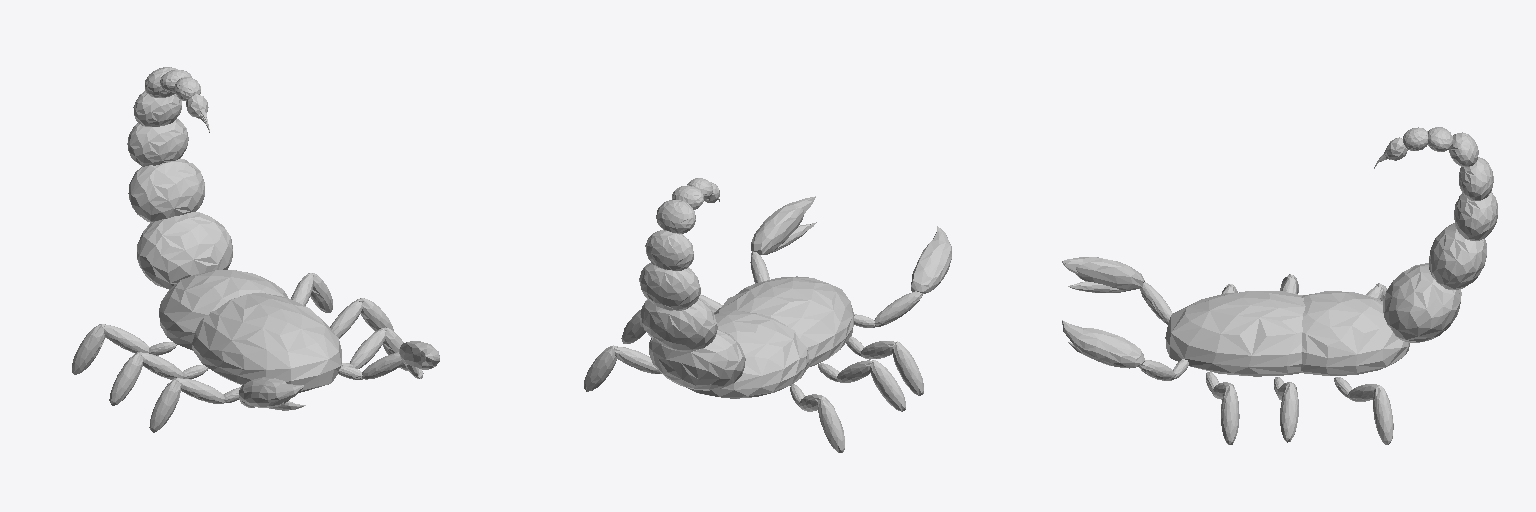
Rendered from scorpion_000037.obj.
3 renders of one model, left to right at view 1: azimuth 30°, elevation 25°; view 2: azimuth 150°, elevation 25°; view 3: azimuth 270°, elevation 25°, orthographic.
Parts seen in each view (by area): view 1: Sphere.010_Sphere.012, Sphere.002_Sphere.004, Sphere.011_Sphere.013, Sphere.003_Sphere.005, Sphere.030_Sphere.000, Sphere.004_Sphere.006, Sphere.012_Sphere.020, Sphere.014_Sphere.023, Sphere.013_Sphere.017, Sphere.000_Sphere.019, Sphere.005_Sphere.007, Sphere.016_Sphere.022 (+3 smaller); view 2: Sphere.010_Sphere.012, Sphere.011_Sphere.013, Sphere.002_Sphere.004, Sphere.030_Sphere.000, Sphere.003_Sphere.005, Sphere.004_Sphere.006, Sphere.014_Sphere.023, Sphere.005_Sphere.007, Sphere.012_Sphere.020, Sphere.028_Sphere.046, Sphere.006_Sphere.008, Sphere.018_Sphere.025 (+2 smaller); view 3: Sphere.010_Sphere.012, Sphere.011_Sphere.013, Sphere.002_Sphere.004, Sphere.030_Sphere.000, Sphere.003_Sphere.005, Sphere.004_Sphere.006, Sphere.005_Sphere.007, Sphere.028_Sphere.046, Sphere.014_Sphere.023, Sphere.012_Sphere.020, Sphere.000_Sphere.019, Sphere.006_Sphere.008 (+1 smaller).
Boxes of the visible parts, x1,y1,x2,y2 form: Sphere.010_Sphere.012: [192, 293, 341, 392]; Sphere.002_Sphere.004: [137, 212, 232, 288]; Sphere.011_Sphere.013: [159, 270, 287, 350]; Sphere.003_Sphere.005: [128, 158, 204, 222]; Sphere.030_Sphere.000: [239, 341, 439, 407]; Sphere.004_Sphere.006: [127, 119, 188, 166]; Sphere.012_Sphere.020: [109, 298, 393, 405]; Sphere.014_Sphere.023: [72, 273, 332, 374]; Sphere.013_Sphere.017: [179, 328, 385, 403]; Sphere.000_Sphere.019: [149, 327, 408, 432]; Sphere.005_Sphere.007: [133, 91, 181, 126]; Sphere.016_Sphere.022: [142, 299, 362, 379]; Sphere.010_Sphere.012: [714, 276, 853, 367]; Sphere.011_Sphere.013: [686, 310, 809, 398]; Sphere.002_Sphere.004: [649, 327, 745, 390]; Sphere.030_Sphere.000: [751, 196, 951, 293]; Sphere.003_Sphere.005: [640, 299, 717, 351]; Sphere.004_Sphere.006: [639, 263, 700, 310]; Sphere.014_Sphere.023: [584, 345, 844, 452]; Sphere.005_Sphere.007: [645, 230, 693, 270]; Sphere.012_Sphere.020: [621, 310, 905, 411]; Sphere.028_Sphere.046: [750, 252, 922, 326]; Sphere.006_Sphere.008: [656, 200, 695, 233]; Sphere.018_Sphere.025: [614, 346, 821, 411]; Sphere.010_Sphere.012: [1165, 291, 1305, 376]; Sphere.011_Sphere.013: [1301, 291, 1409, 375]; Sphere.002_Sphere.004: [1383, 263, 1461, 342]; Sphere.030_Sphere.000: [1062, 257, 1144, 368]; Sphere.003_Sphere.005: [1429, 223, 1486, 289]; Sphere.004_Sphere.006: [1454, 191, 1497, 240]; Sphere.005_Sphere.007: [1459, 157, 1493, 200]; Sphere.028_Sphere.046: [1139, 282, 1175, 380]; Sphere.014_Sphere.023: [1373, 283, 1393, 444]; Sphere.012_Sphere.020: [1280, 274, 1298, 442]; Sphere.000_Sphere.019: [1221, 284, 1239, 444]; Sphere.006_Sphere.008: [1449, 132, 1478, 167].
Size of the model in its own units: 0.9585 by 0.8221 by 1.28.